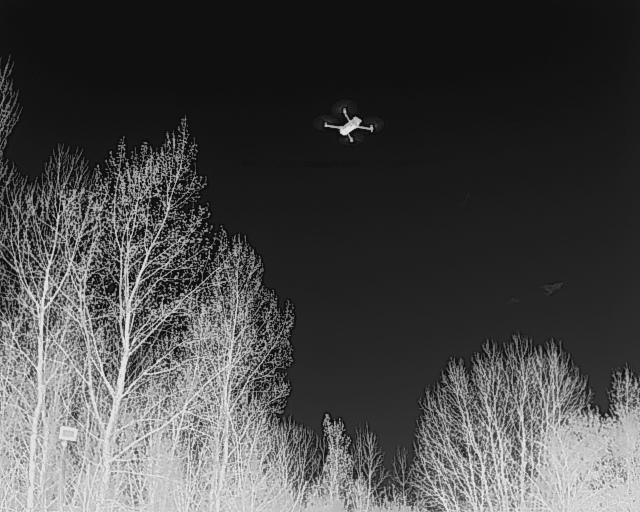drone: (312, 95, 386, 156)
